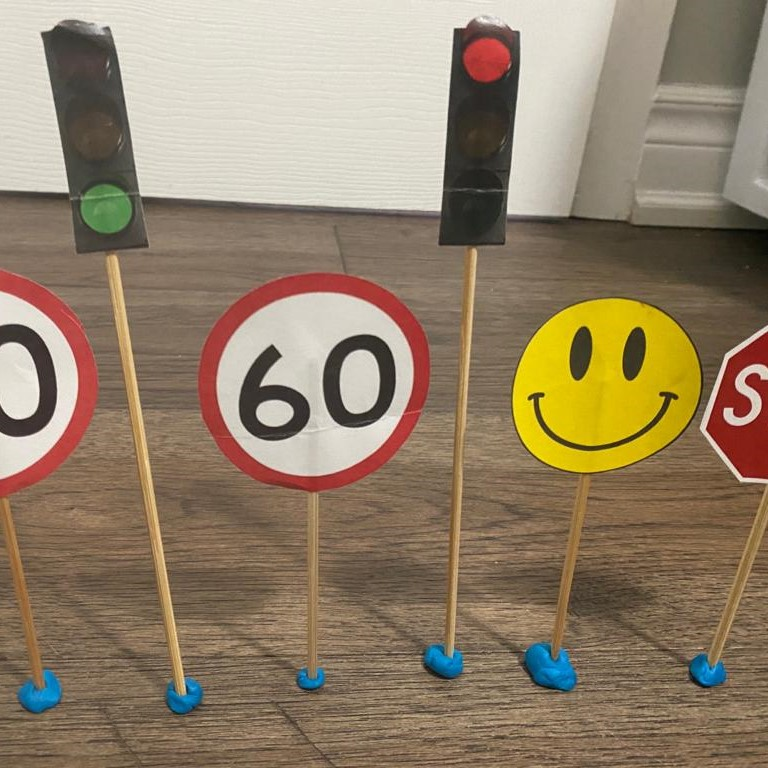Green Traffic Light: (35, 15, 156, 258)
Person: (506, 286, 704, 477)
Red Traffic Light: (434, 16, 524, 253)
Speed Limit 60: (191, 268, 433, 496)
